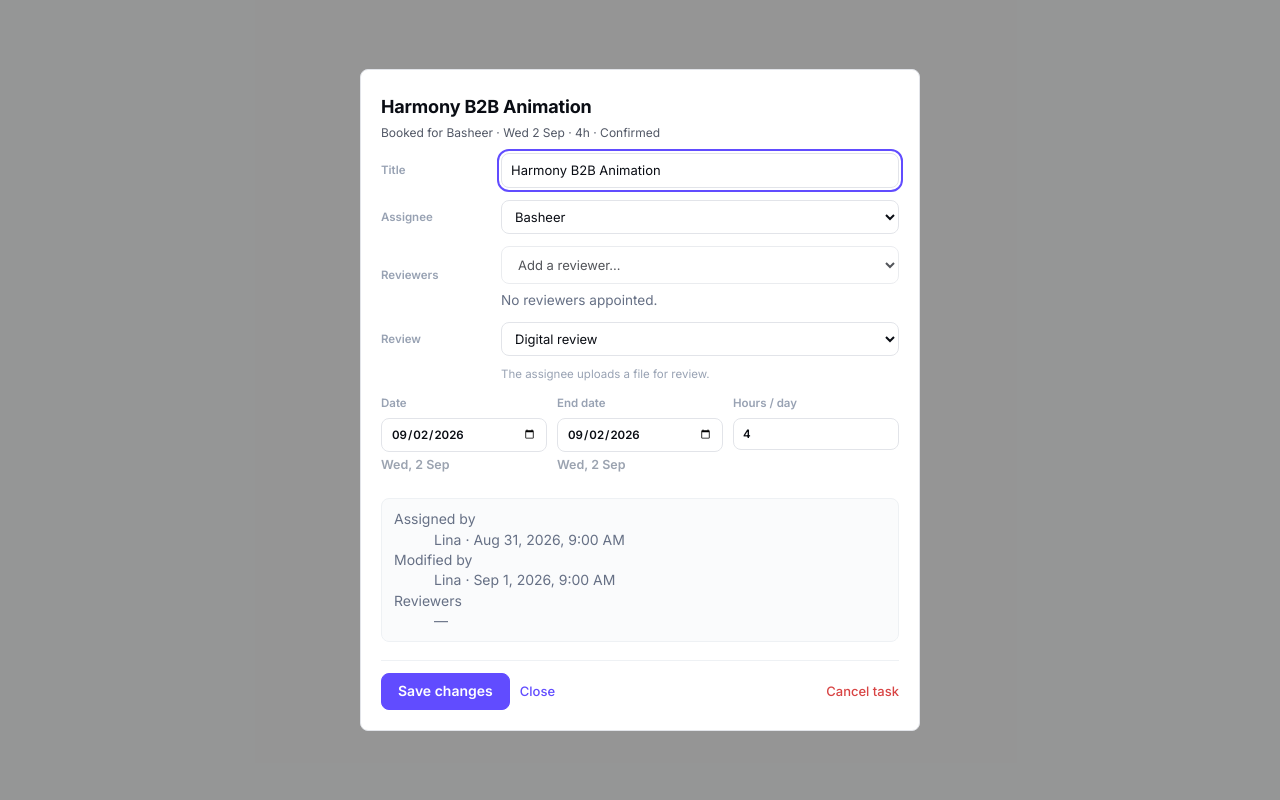
EditBookingDialog — cancelling asks first (ADR-0068) › tells the truth about AD-HOC work: cancelling it cannot be undone
This screenshot has width=1280, height=800.
Click the button with test id "edit-cancel-task".
click(863, 692)  # box [826, 684, 899, 700]
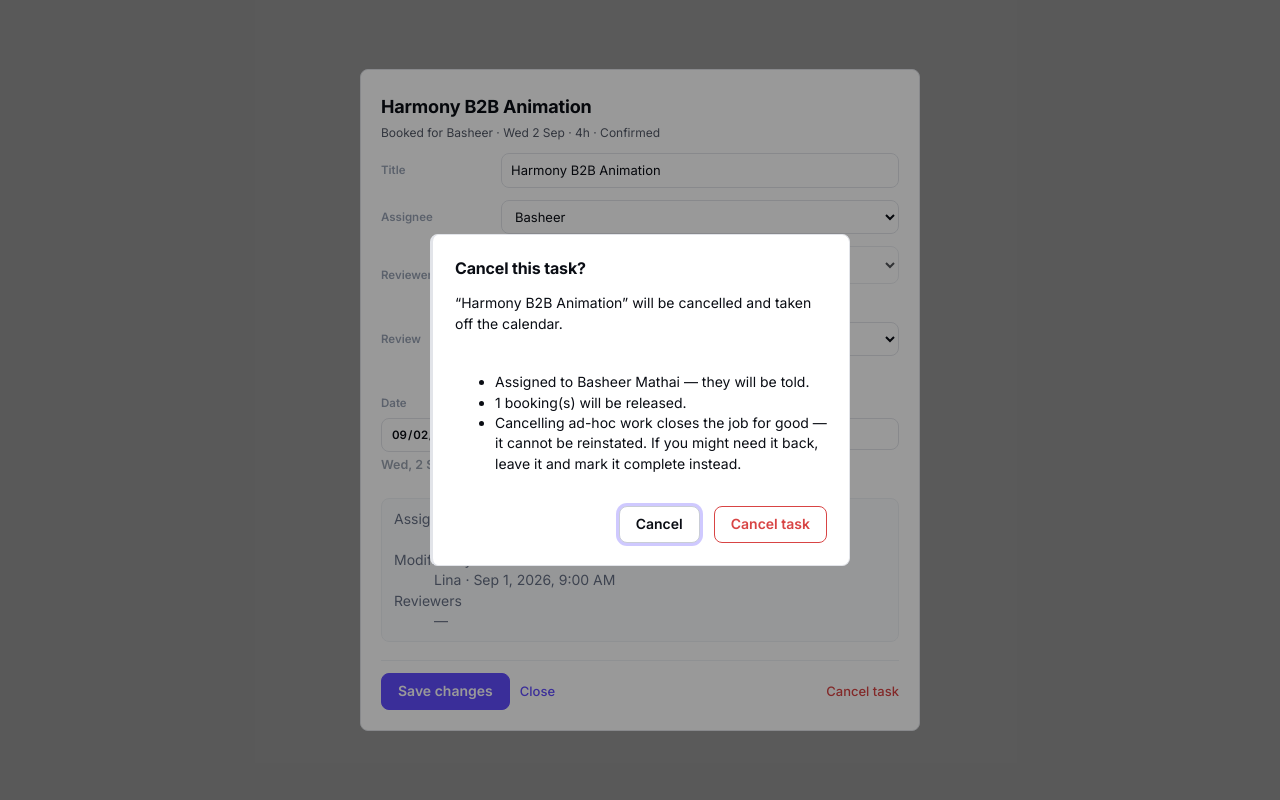
Expected: the list with test id "edit-cancel-confirm-detail" does not show "You can reinstate it afterwards", [455, 372, 827, 474]
Result: the list with test id "edit-cancel-confirm-detail" shows "cannot be reinstated" at [495, 414, 827, 472]
